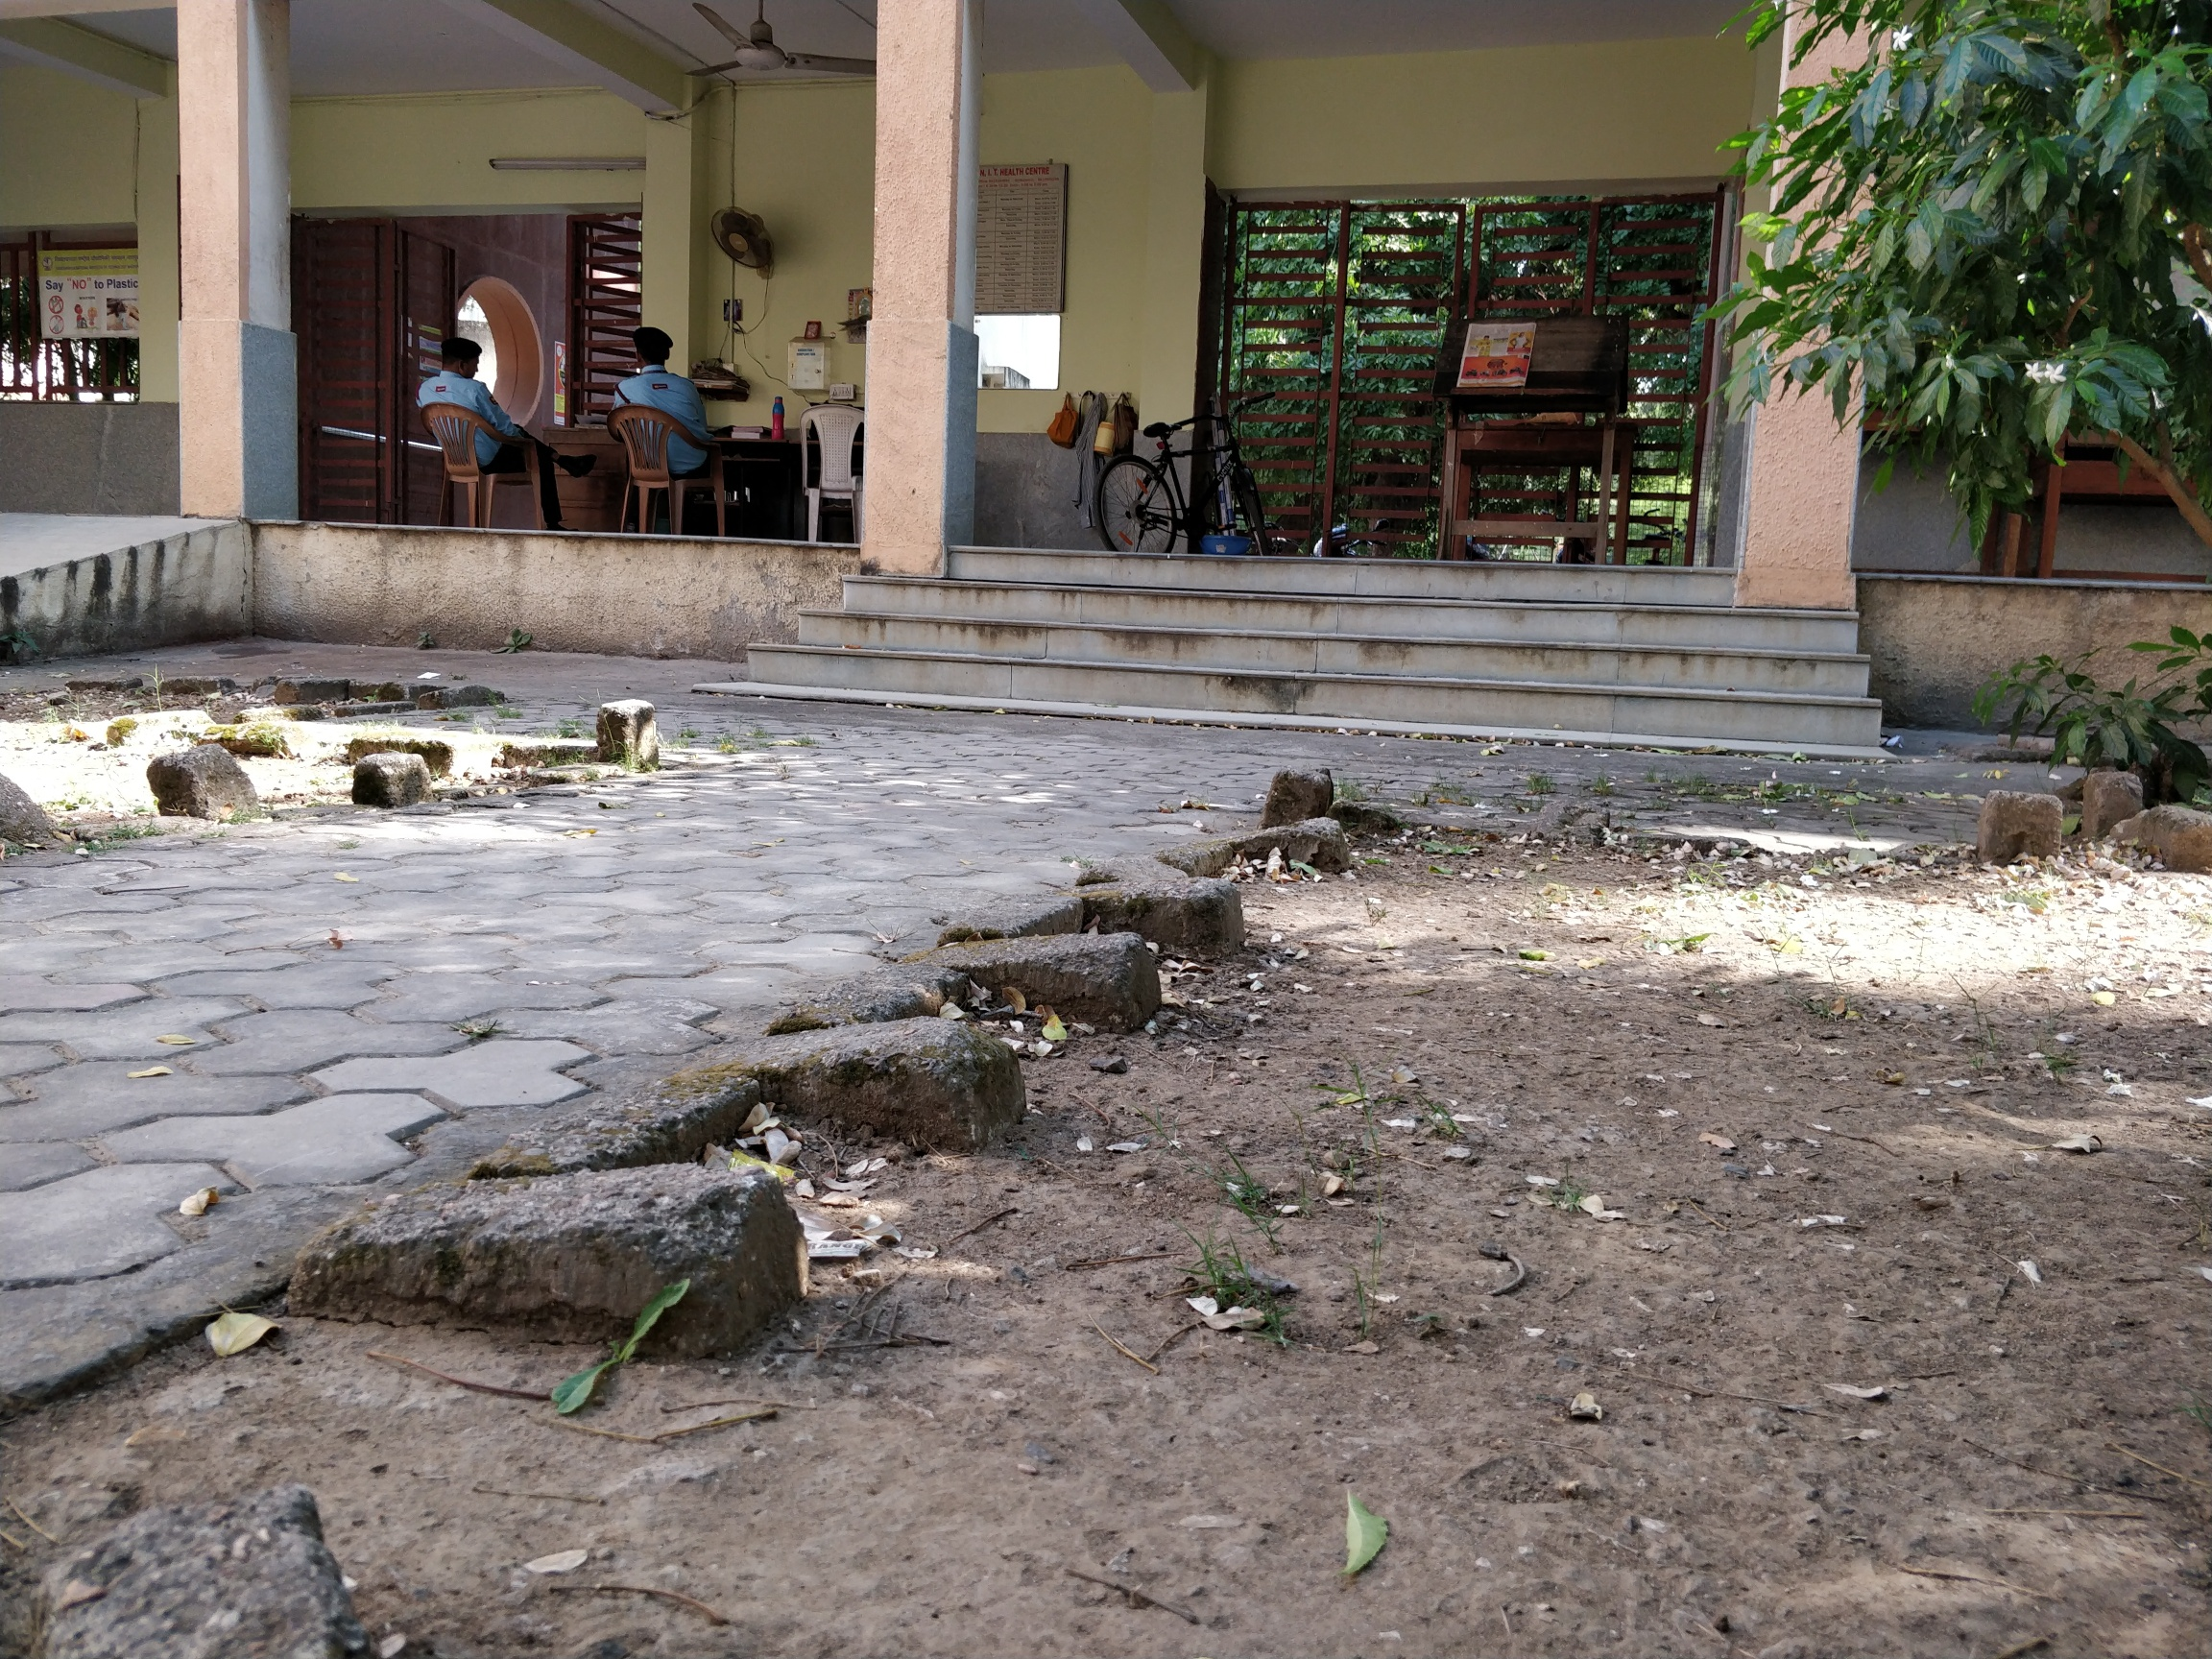stairs_up: (735, 551, 1871, 732)
